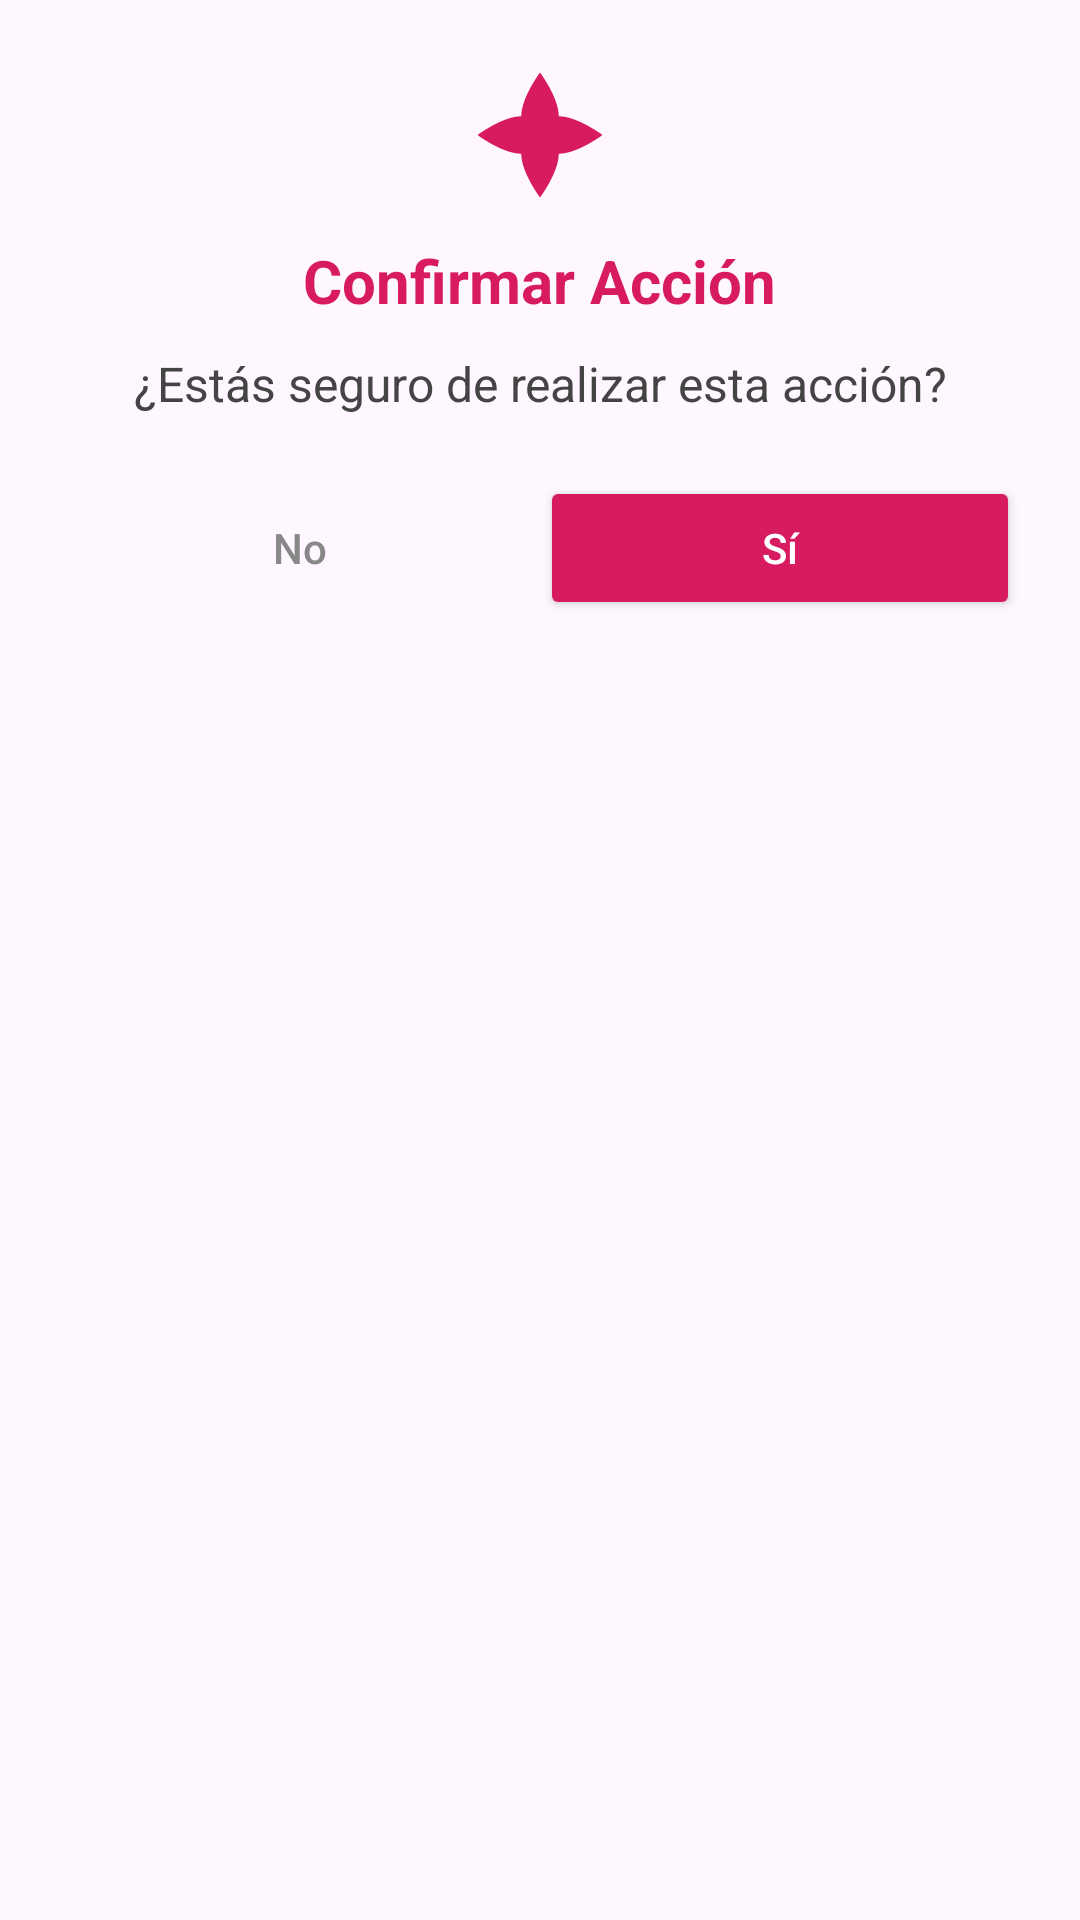

Icons on this 1080 x 1920 Android screen, each with its box as (x1, y1, x2, y2):
flower: (478, 73, 602, 197)
